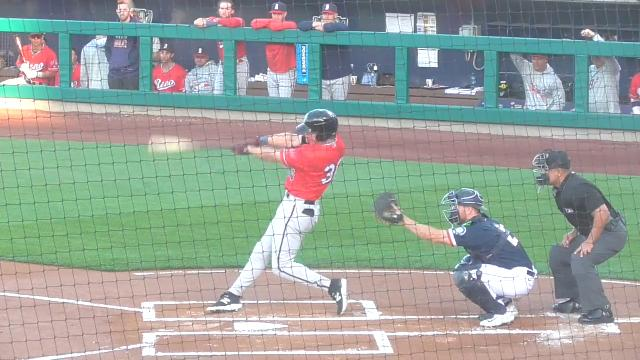baseball bat: (148, 139, 236, 155)
